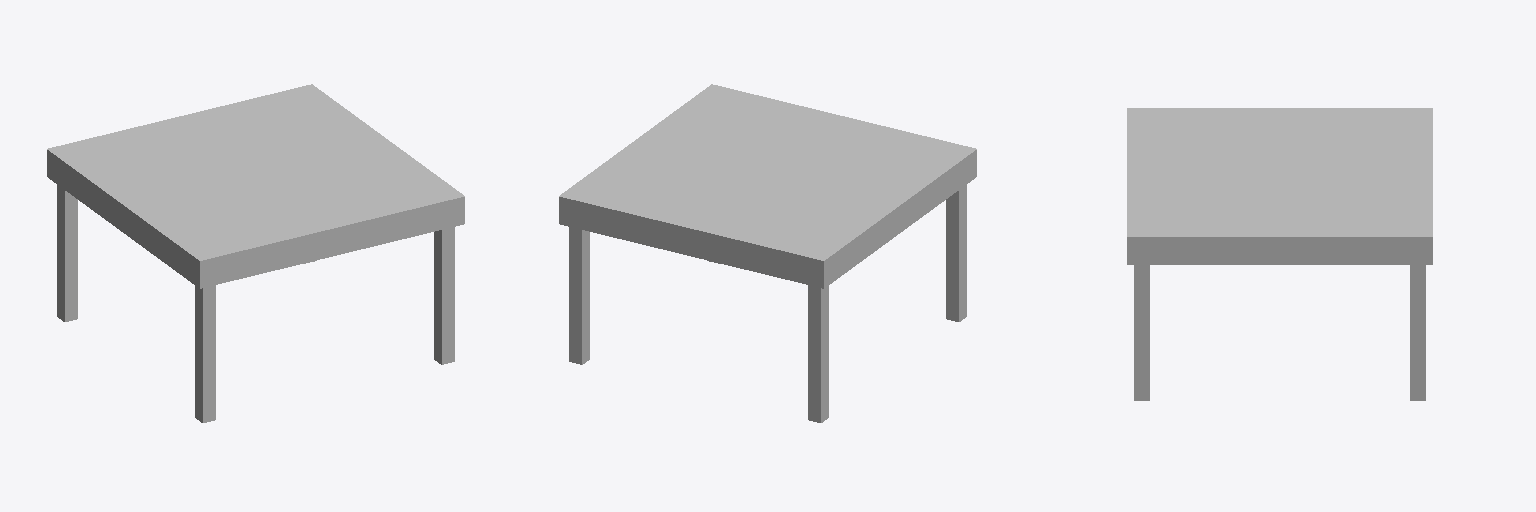
File: asztal.obj
3 renders of one model, left to right at view 1: azimuth 30°, elevation 25°; view 2: azimuth 150°, elevation 25°; view 3: azimuth 270°, elevation 25°, orthographic.
Size of the model in its own units: 10 by 6 by 10.